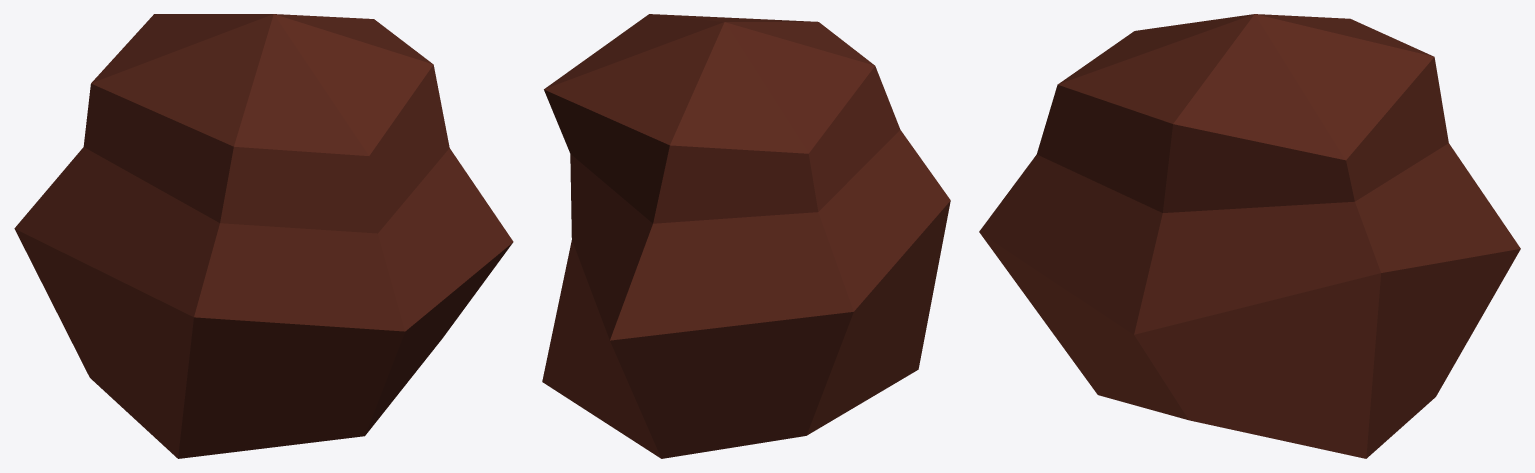
The model's file is LowPolySmallRock.fbx.
3 renders of one model, left to right at view 1: azimuth 30°, elevation 25°; view 2: azimuth 150°, elevation 25°; view 3: azimuth 270°, elevation 25°, orthographic. The views are drawn at different scales.
Visible parts, largest first — view 1: Rock; view 2: Rock; view 3: Rock.
Part boxes in pixels (x1=…): Rock: x1=14, y1=14, x2=513, y2=458; Rock: x1=542, y1=14, x2=950, y2=458; Rock: x1=979, y1=14, x2=1520, y2=458.
Bounding box in the file's own units: 164 × 166 × 201.
